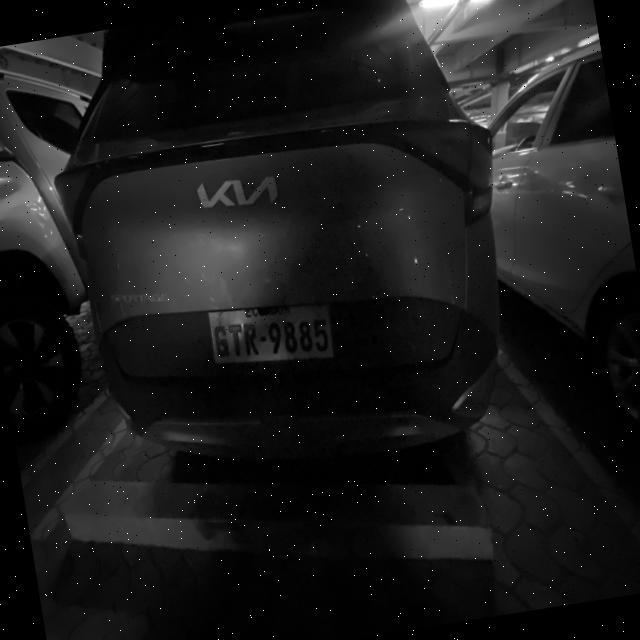Placa: (209, 305, 333, 363)
